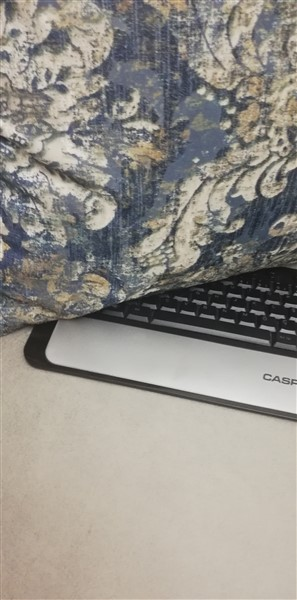klavye: (34, 248, 296, 423)
